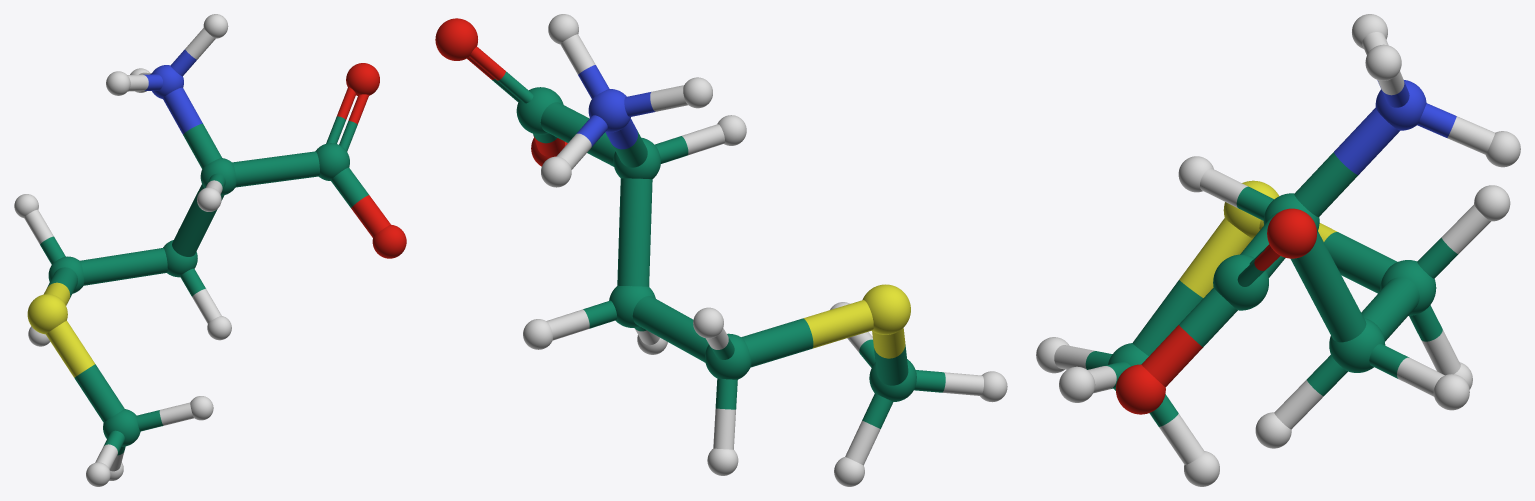
Rendered from MET.PDB.glb.
3 renders of one model, left to right at view 1: azimuth 30°, elevation 25°; view 2: azimuth 150°, elevation 25°; view 3: azimuth 270°, elevation 25°, orthographic. The views are drawn at different scales.
Size of the model in its own units: 5.74 by 5.6 by 4.41.
